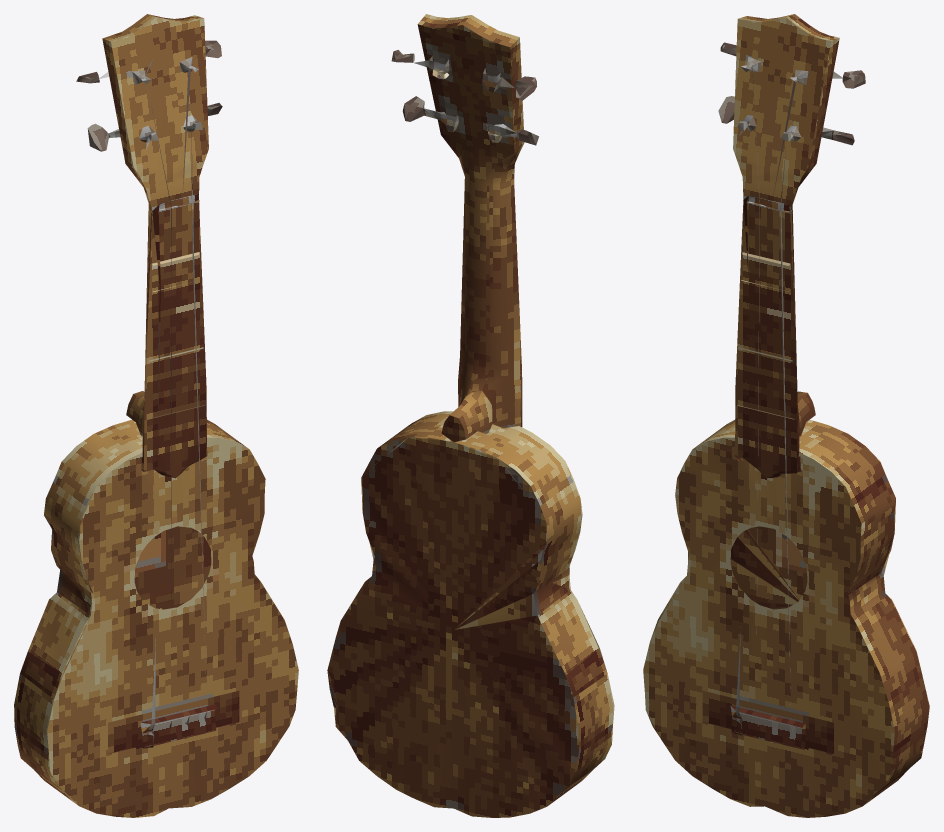
File: sv_cavaquinho.glb
3 renders of one model, left to right at view 1: azimuth 30°, elevation 25°; view 2: azimuth 150°, elevation 25°; view 3: azimuth 330°, elevation 25°, orthographic.
Parts seen in each view (by area): view 1: sv_cavaquinho; view 2: sv_cavaquinho; view 3: sv_cavaquinho.
Part boxes in pixels (left/top/right/bottom): sv_cavaquinho: left=14, top=14, right=298, bottom=817; sv_cavaquinho: left=327, top=14, right=614, bottom=817; sv_cavaquinho: left=643, top=14, right=929, bottom=817.
Bounding box in the file's own units: 0.358 × 1.06 × 0.1017.
Materials: 1 (1 with a texture image).
